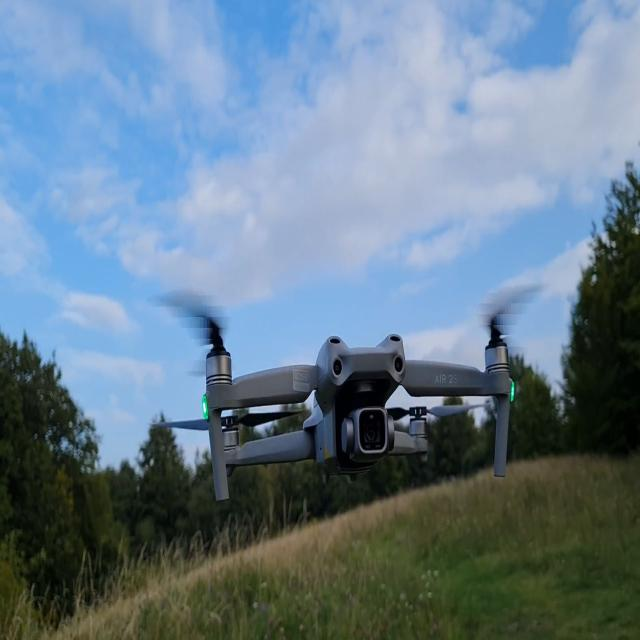drone: (147, 280, 546, 502)
